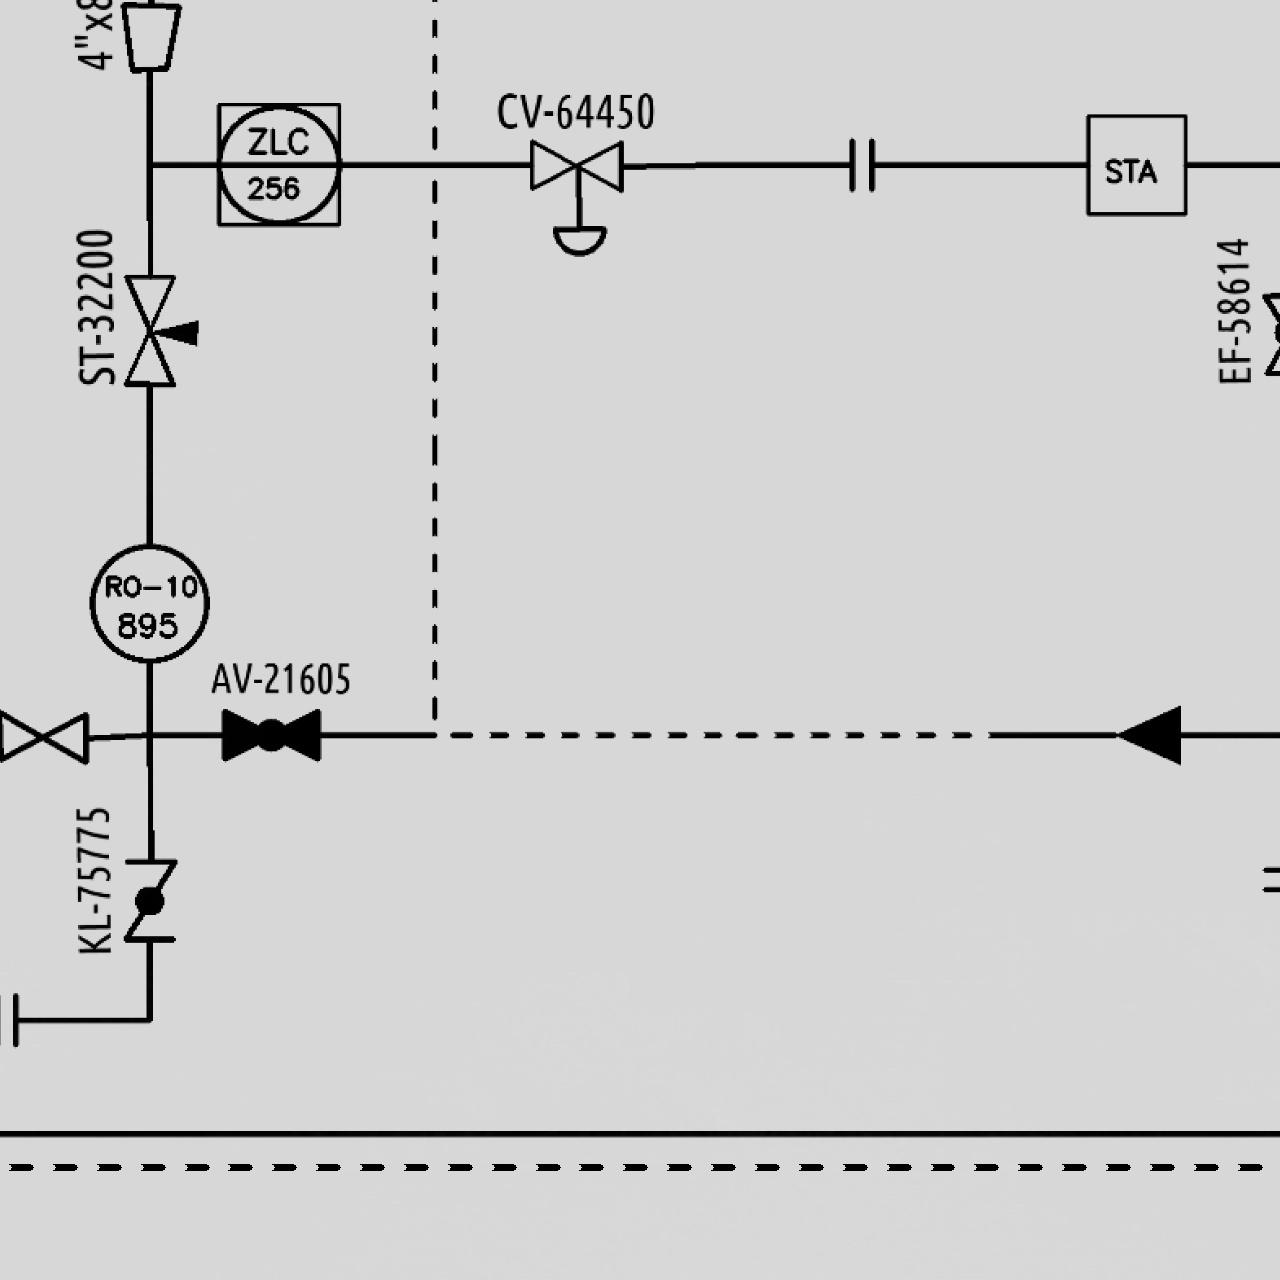Control-Panel: (86, 539, 212, 666)
